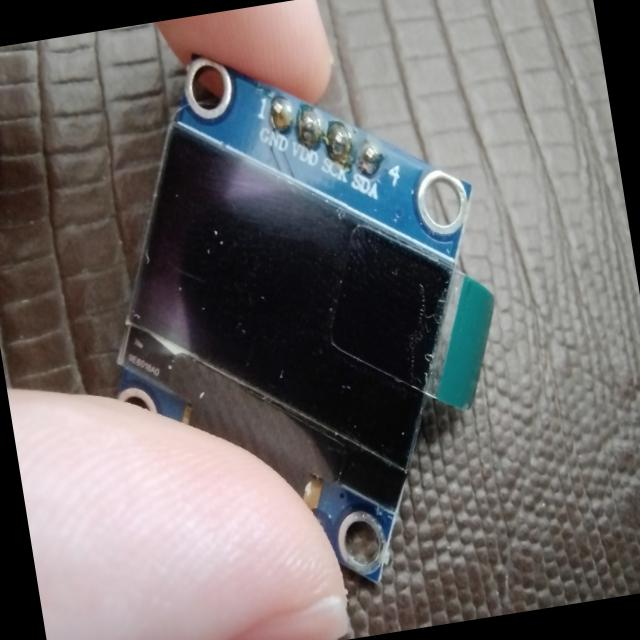oled: (63, 2, 544, 624)
